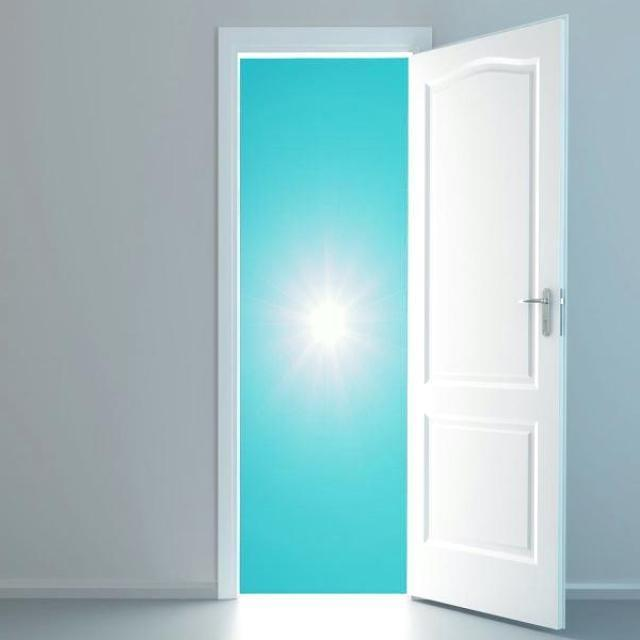door: (405, 13, 568, 630)
